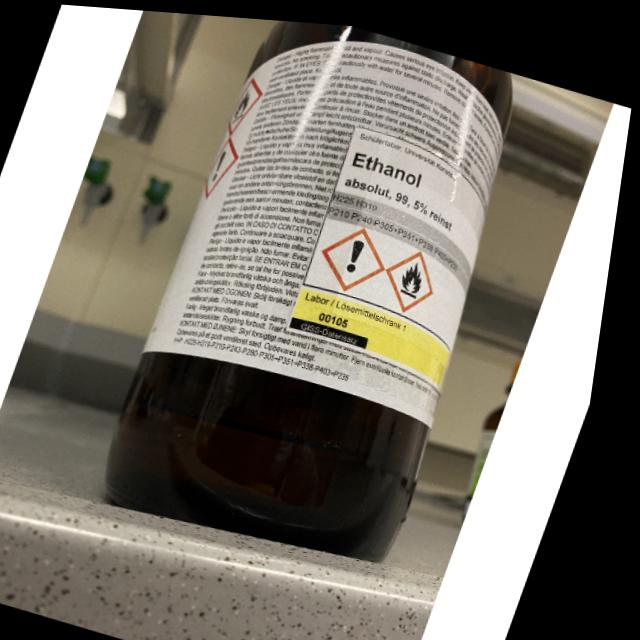flammable: (381, 237, 452, 312)
health-ozone layer hazard: (315, 210, 404, 294)
